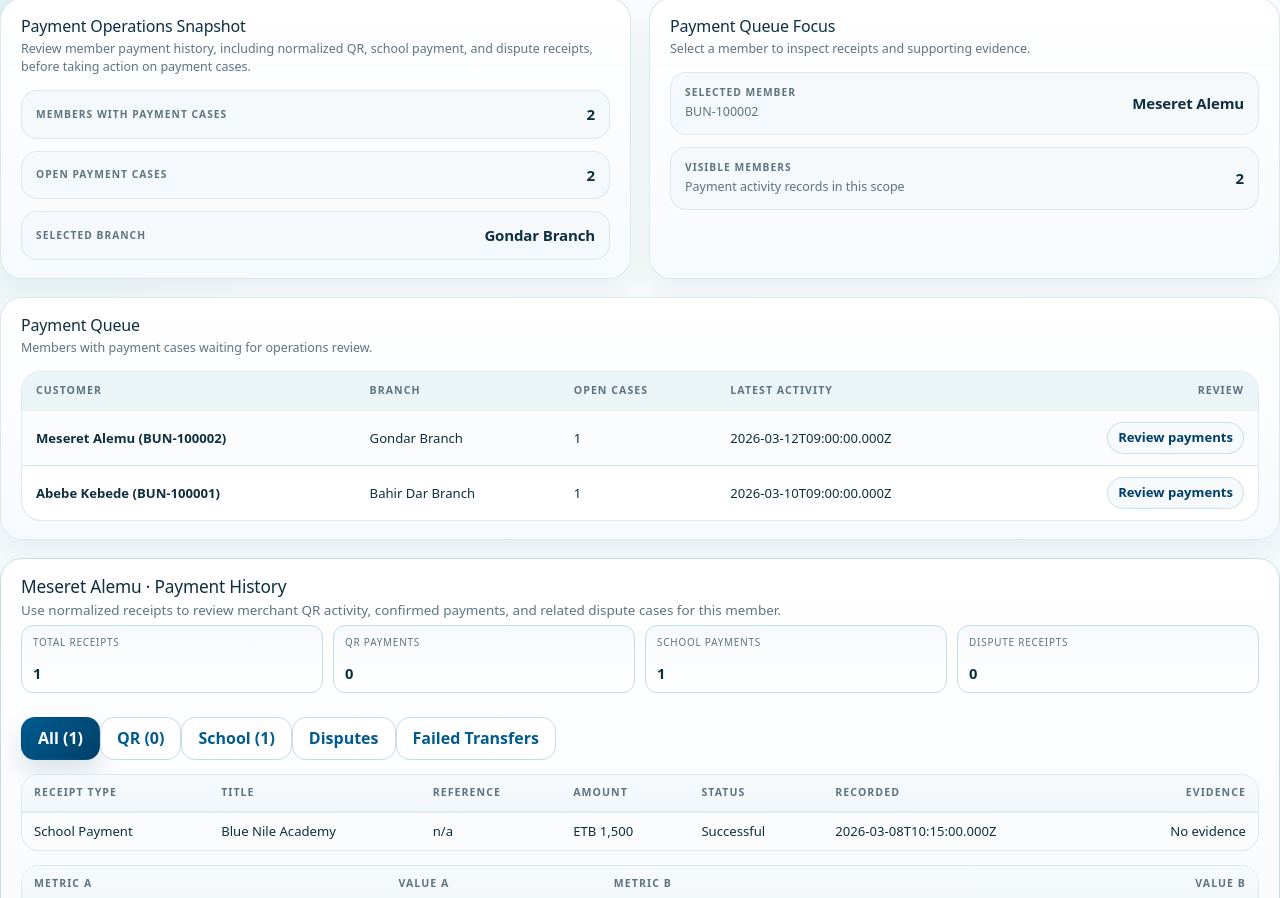
Test: PaymentOperationsPage › loads member payment history and filters to qr receipts
Check: the heading "Payment Operations Snapshot" is shown, box [21, 15, 246, 37]
Check: the heading "Meseret Alemu · Payment History" is shown, box [21, 575, 286, 598]
Click the button "Review payments" in the row of "Abebe Kebede (BUN-100001)".
click(1176, 493)  # box [1107, 477, 1244, 509]
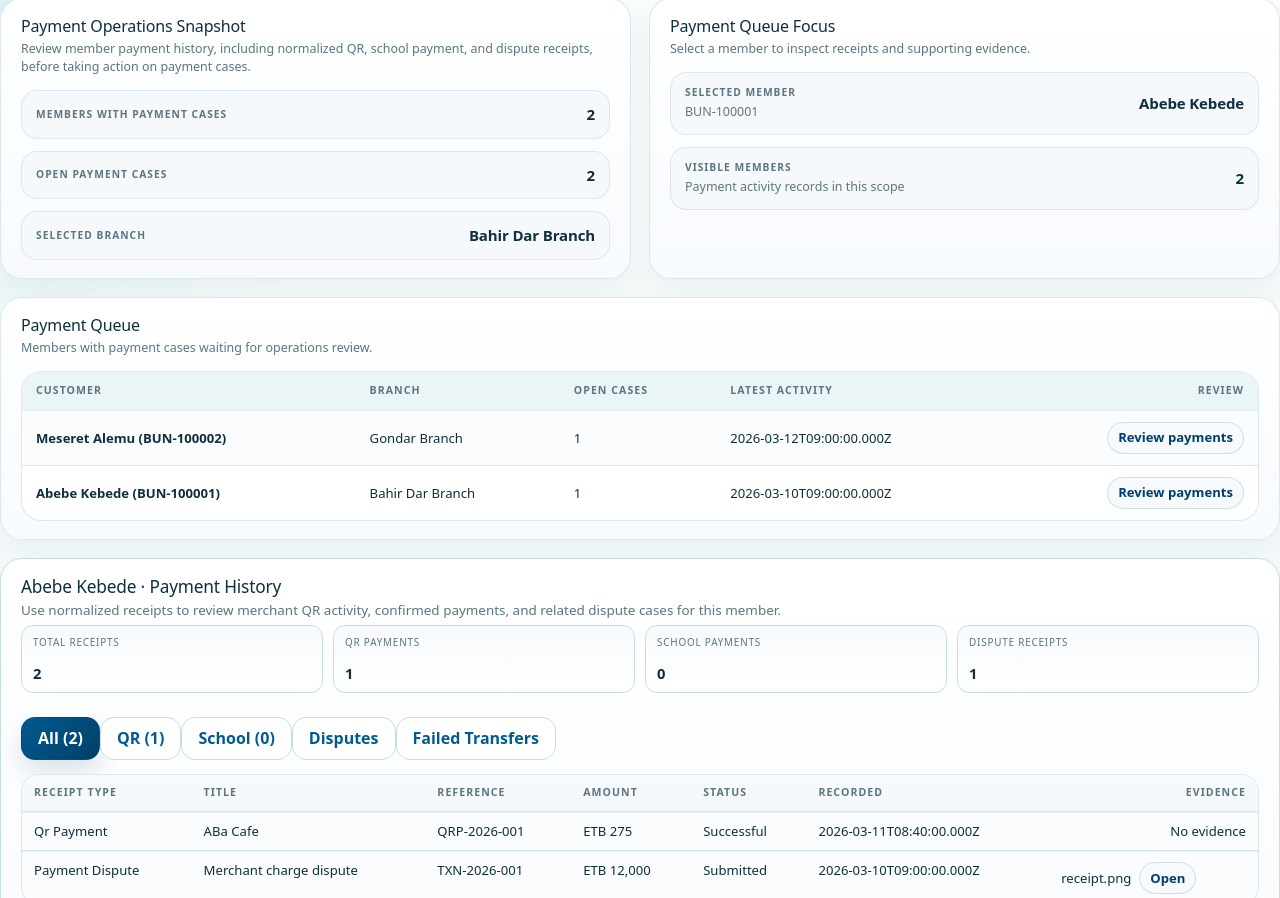
Check: the number of headings "Abebe Kebede · Payment History" is 1, box [21, 575, 281, 598]
Check: the text "ABa Cafe" is shown, box [192, 812, 425, 851]
Check: the text "QRP-2026-001" is shown, box [425, 812, 571, 851]
Click the button "QR (1)".
click(141, 738)  # box [100, 717, 182, 760]
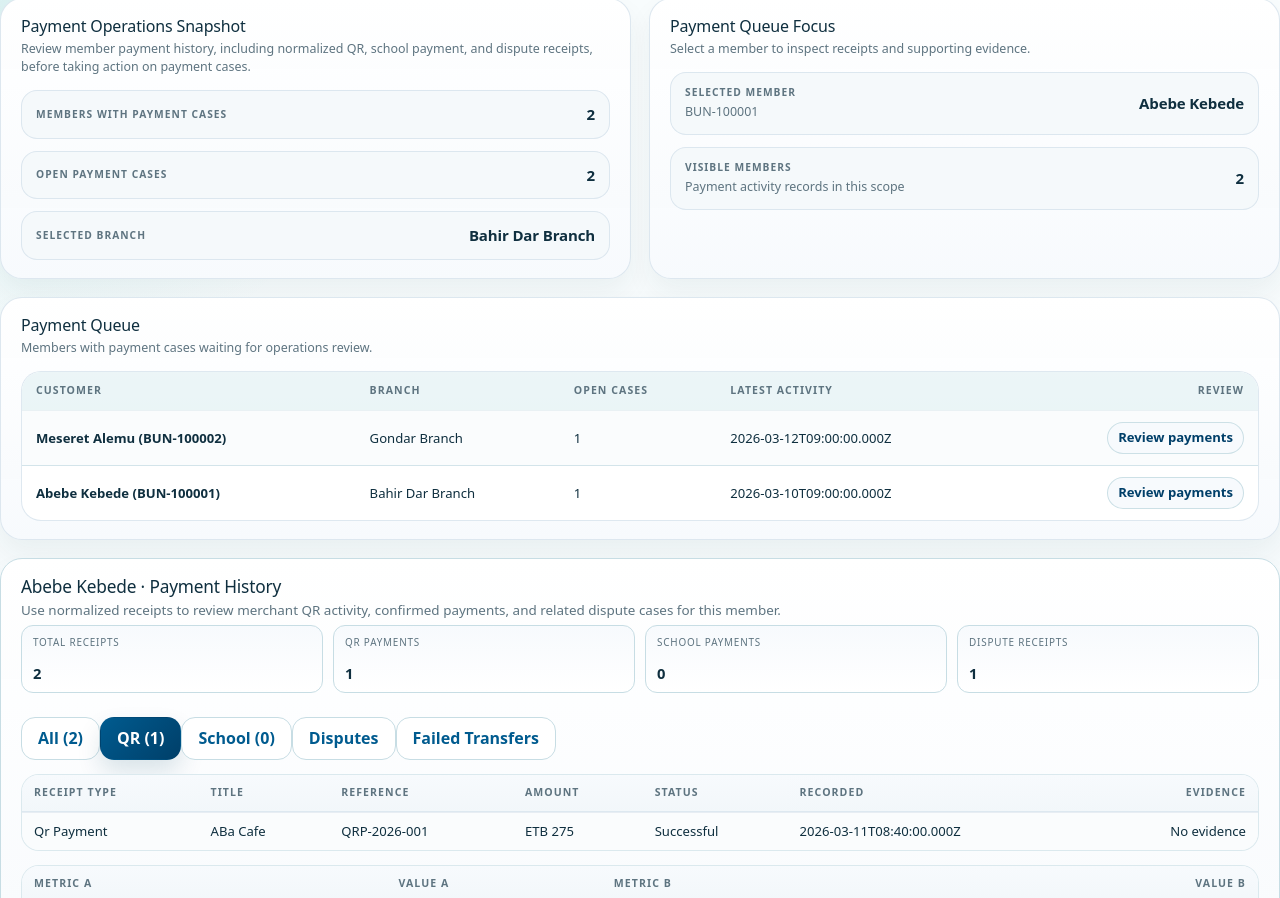
Check: the text "No evidence" is shown, box [1093, 812, 1258, 850]
Check: the text "Qr Payment" is shown, box [22, 812, 198, 850]
Click the button "Disputes".
click(344, 738)  # box [292, 717, 396, 760]
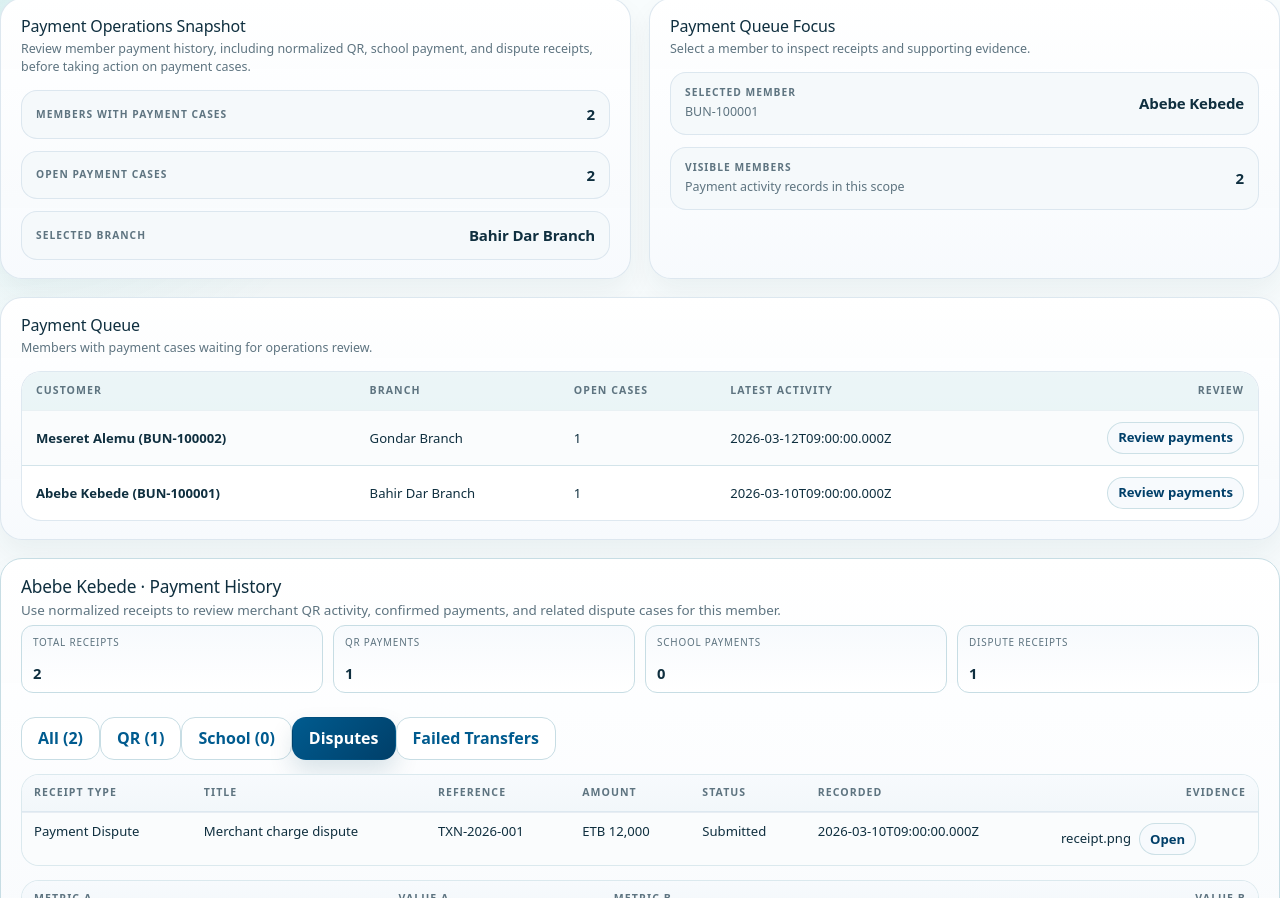
Click the button "Open".
click(1168, 839)  # box [1139, 823, 1196, 855]
(page scrolled)
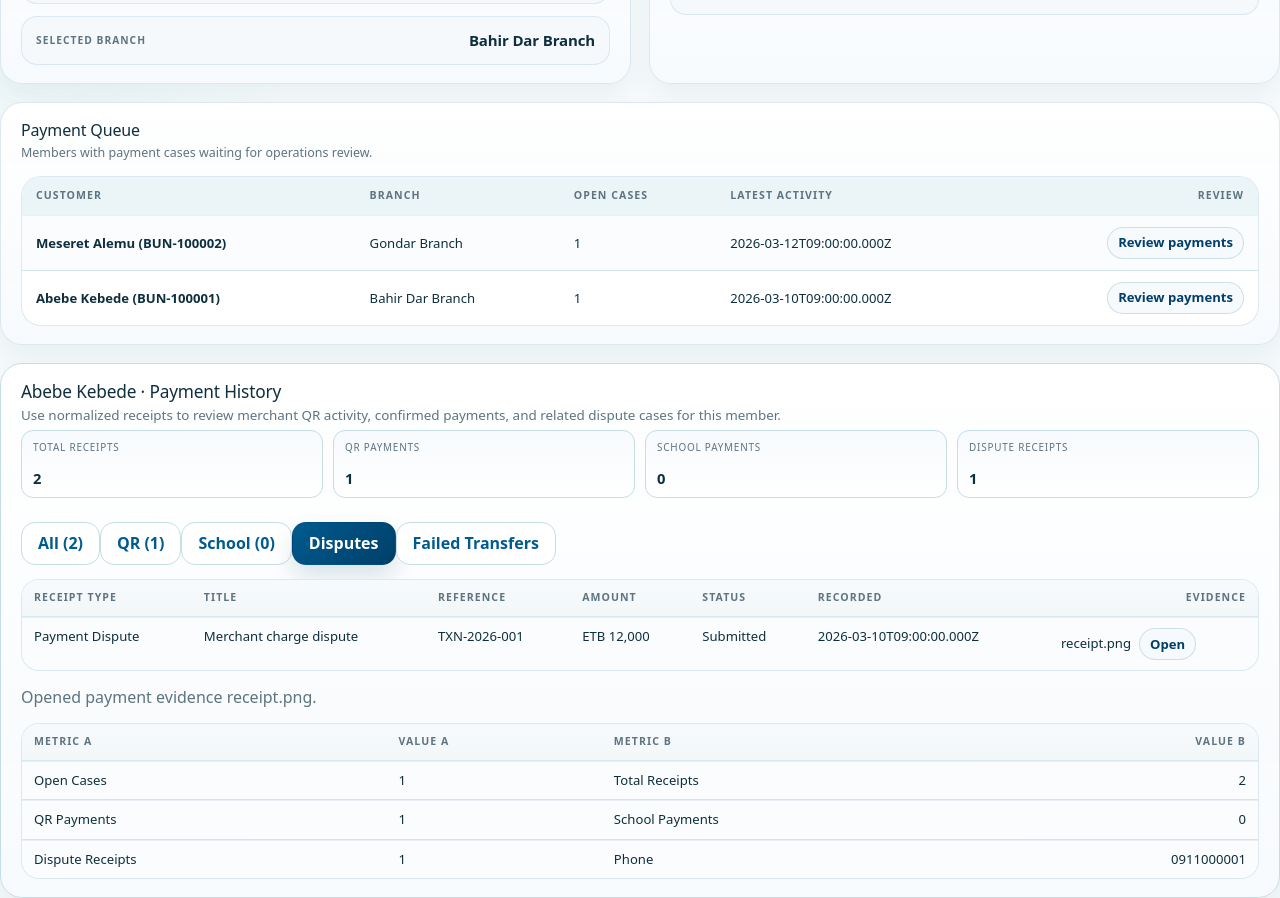
Check: the text "Opened payment evidence receipt.png." is shown, box [21, 686, 316, 708]
